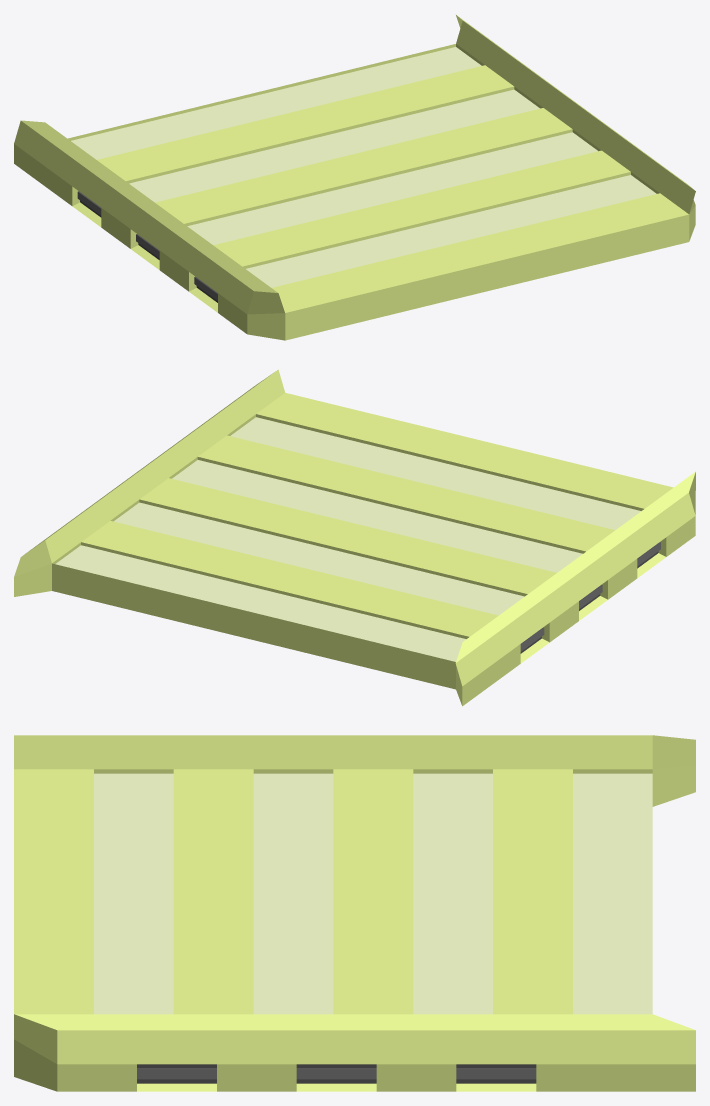
The model's file is Race Course.fbx.
3 renders of one model, top to bottom at view 1: azimuth 30°, elevation 25°; view 2: azimuth 150°, elevation 25°; view 3: azimuth 270°, elevation 25°, orthographic. The views are drawn at different scales.
Parts seen in each view (by area): view 1: Cube; view 2: Cube; view 3: Cube.
Part boxes in pixels (x1,y1,x2,y2): Cube: (14, 15, 695, 340); Cube: (14, 369, 695, 706); Cube: (14, 735, 695, 1091).
Bounding box in the file's own units: 737 × 77.16 × 709.
